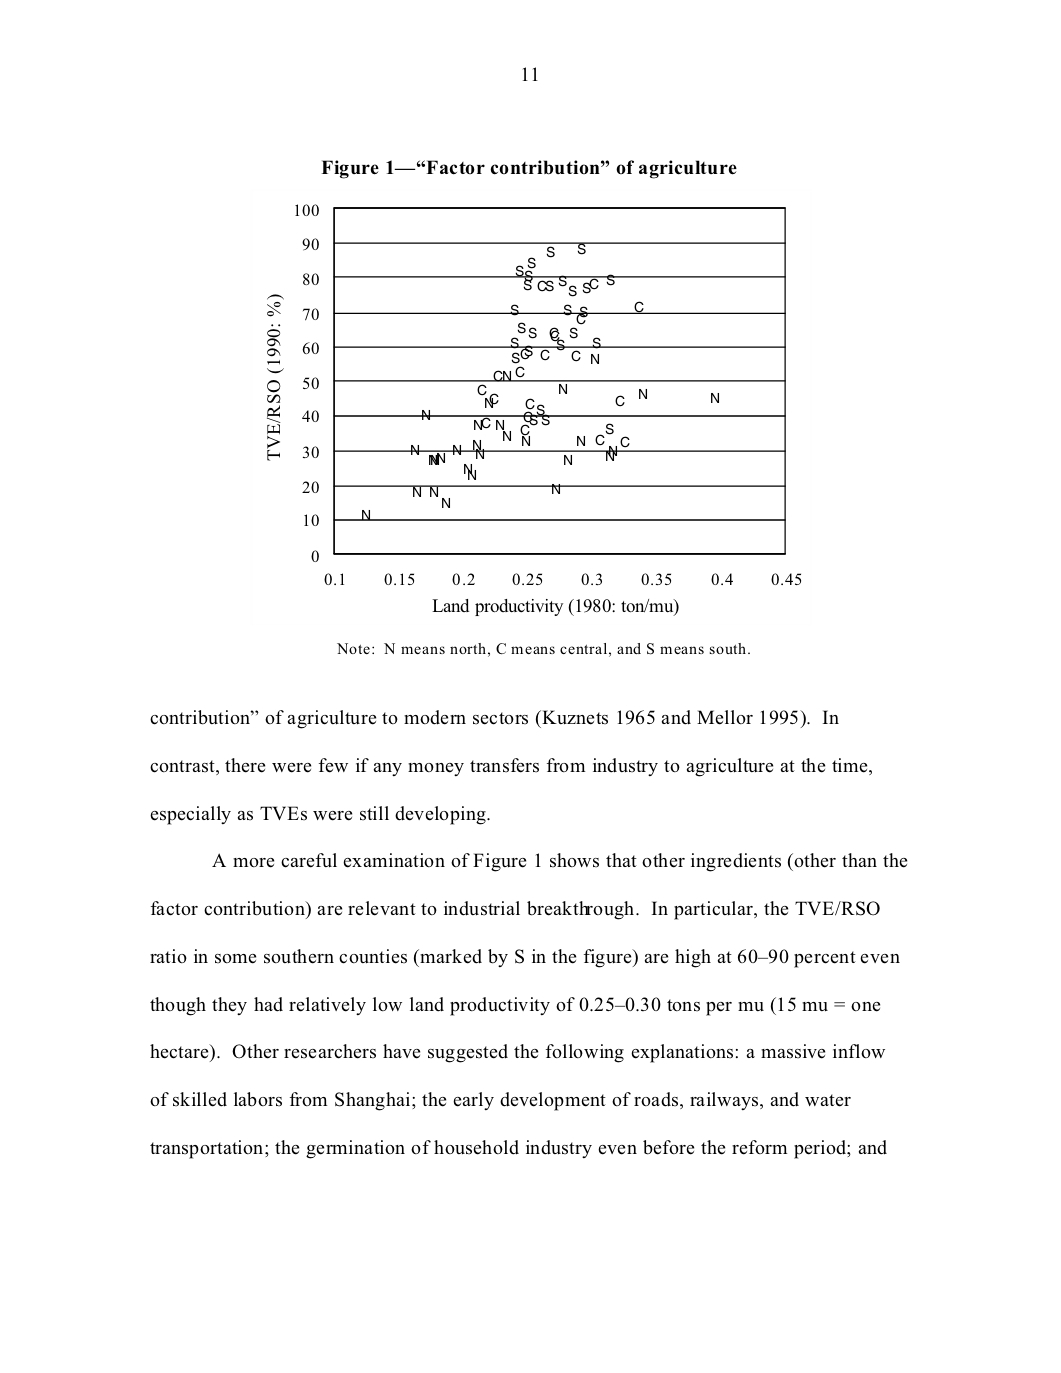figure: (266, 204, 801, 616)
